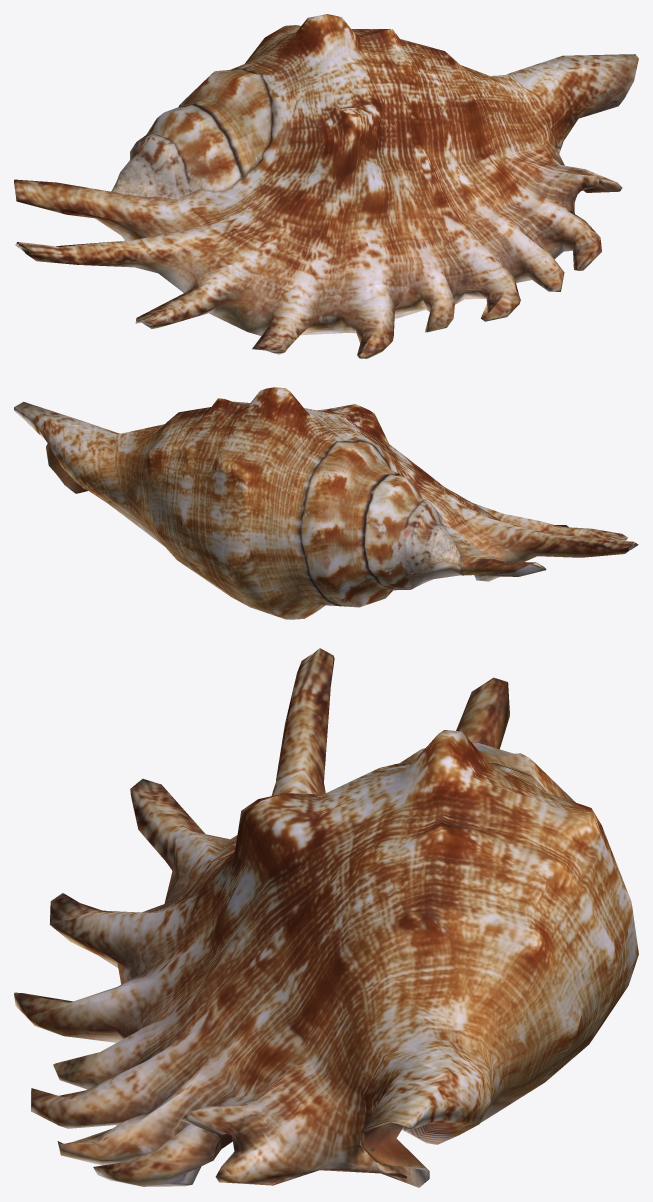
File: lambis_shell-lod.glb
3 renders of one model, top to bottom at view 1: azimuth 30°, elevation 25°; view 2: azimuth 150°, elevation 25°; view 3: azimuth 270°, elevation 25°, orthographic. The views are drawn at different scales.
Visible parts, largest first — view 1: lambis_shell; view 2: lambis_shell; view 3: lambis_shell.
Part boxes in pixels (x1,y1,x2,y2): lambis_shell: [14, 14, 638, 358]; lambis_shell: [14, 387, 638, 619]; lambis_shell: [14, 648, 638, 1187].
Bounding box in the file's own units: 0.1387 × 0.0464 × 0.0744.
Materials: 1 (1 with a texture image).
